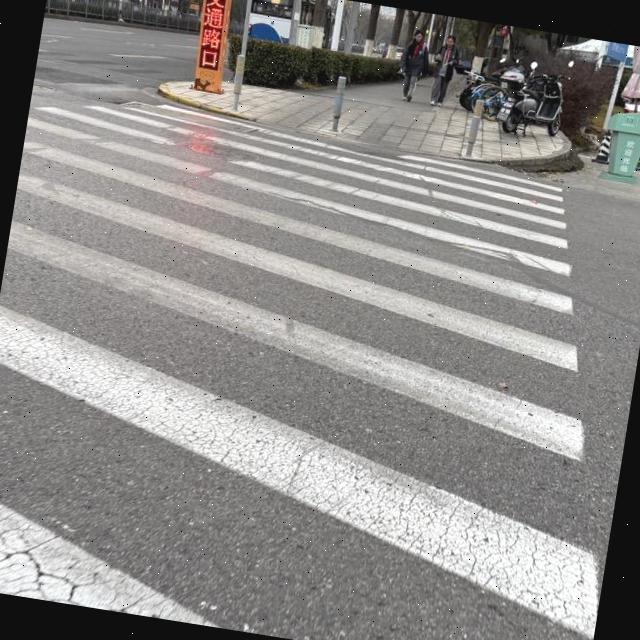curb: (158, 83, 255, 120), (478, 146, 583, 173)
